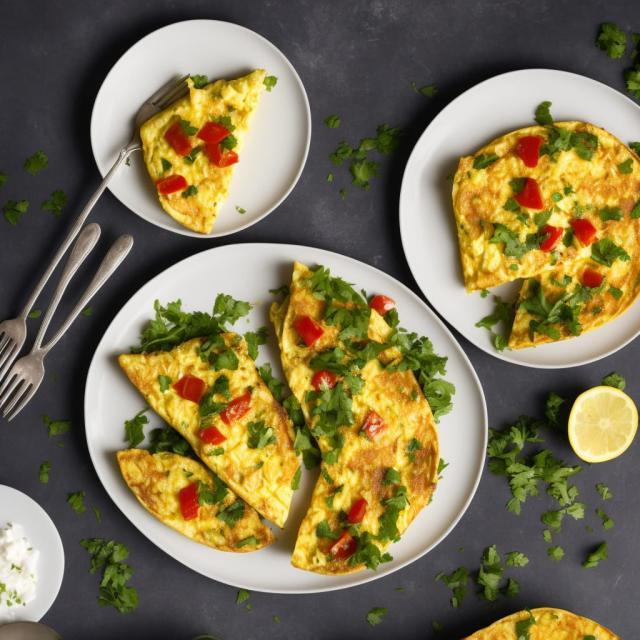telur_ayam_dadar: (271, 262, 441, 578), (444, 114, 640, 350), (118, 331, 303, 531), (140, 68, 276, 235), (116, 447, 278, 555)
